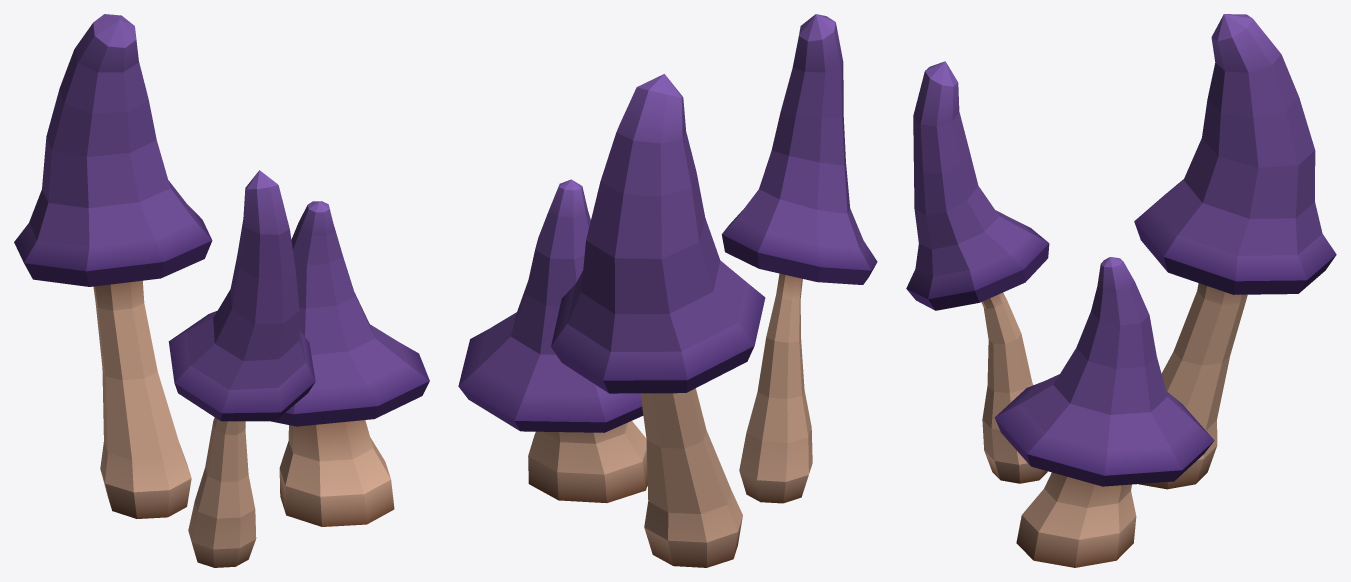
The model's file is Mushroom 4.fbx.
3 renders of one model, left to right at view 1: azimuth 30°, elevation 25°; view 2: azimuth 150°, elevation 25°; view 3: azimuth 270°, elevation 25°, orthographic. The views are drawn at different scales.
Visible parts, largest first — view 1: Mushroom 5; view 2: Mushroom 5; view 3: Mushroom 5.
Boxes of the visible parts, x1,y1,x2,y2 form: Mushroom 5: (14, 14, 429, 567); Mushroom 5: (458, 14, 877, 567); Mushroom 5: (906, 14, 1336, 567).
Size of the model in its own units: 96.36 by 129 by 110.
